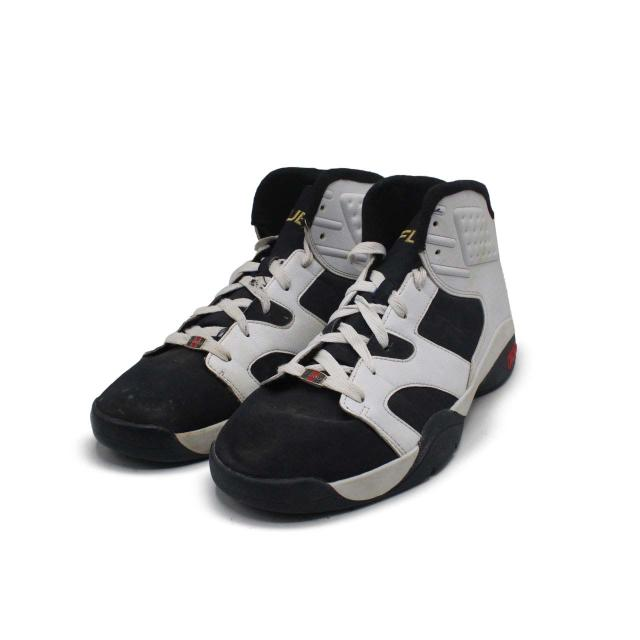midsole: (210, 319, 516, 528), (92, 409, 219, 469)
uppersole: (214, 180, 501, 480), (92, 167, 362, 432)
